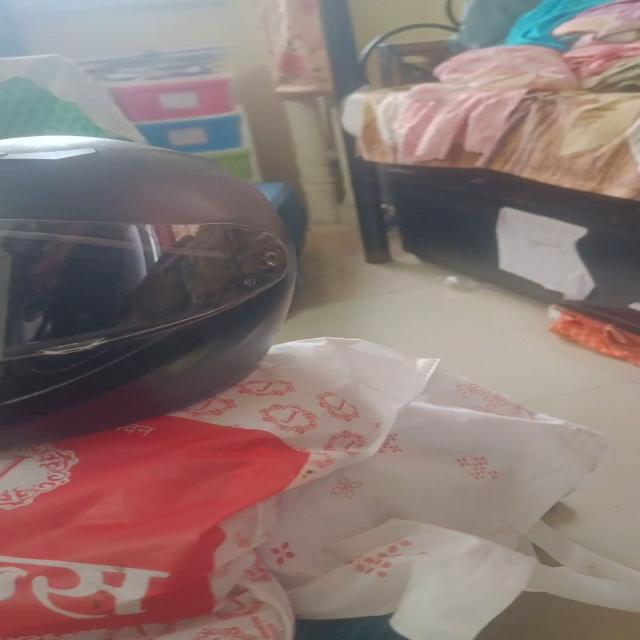Helmet: (0, 134, 294, 450)
